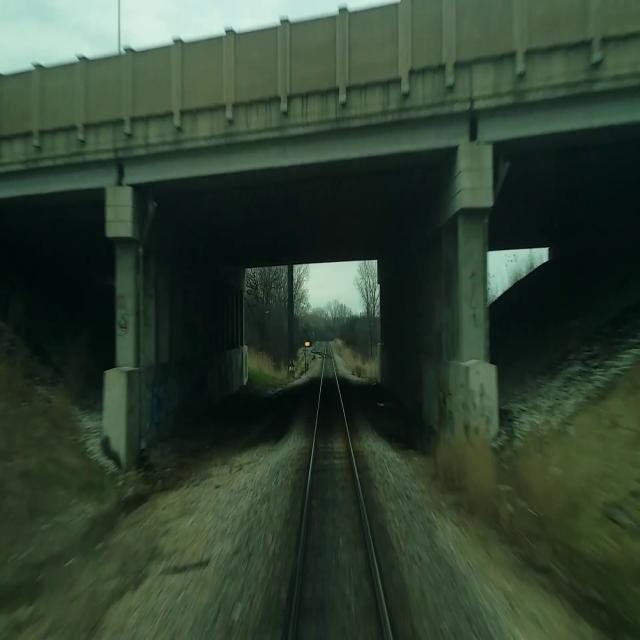rail-track: (292, 357, 389, 639)
